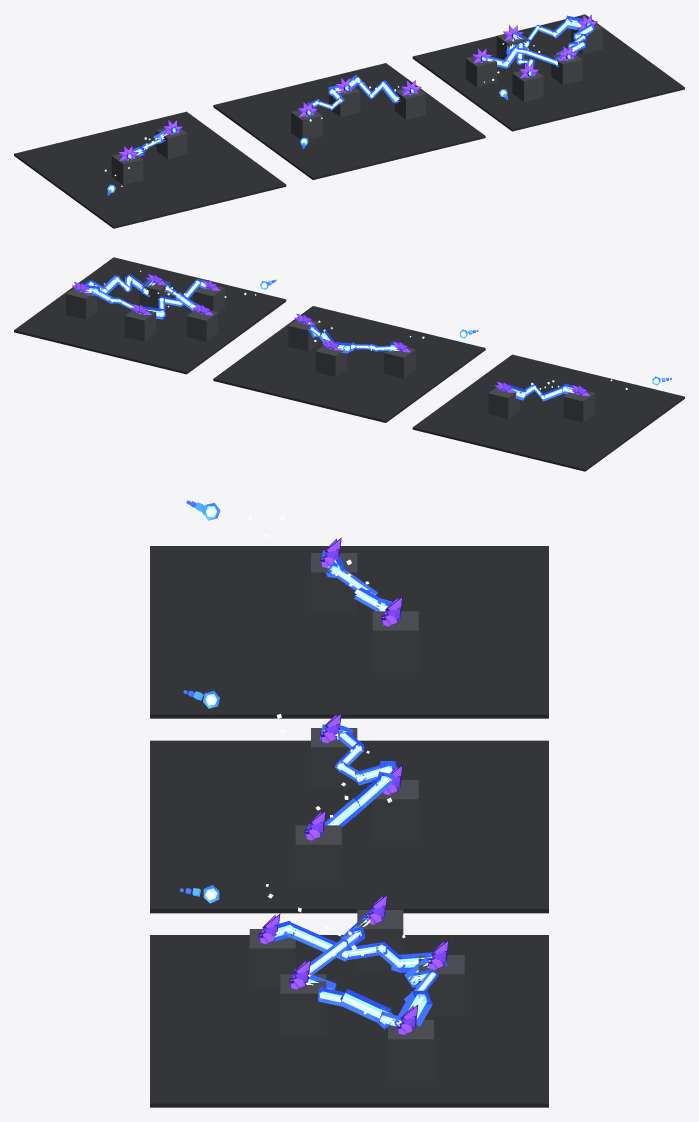
File: fx_chainlightning.glb
3 renders of one model, top to bottom at view 1: azimuth 30°, elevation 25°; view 2: azimuth 150°, elevation 25°; view 3: azimuth 270°, elevation 25°, orthographic. The views are drawn at different scales.
Visible parts, largest first — view 1: Ground_2T, Ground_3T, Ground_5T, Enemy_2T_01, Enemy_5T_05, Enemy_5T_01, Enemy_3T_01, Enemy_3T_03, Enemy_5T_02, Enemy_2T_02, Enemy_3T_02, Enemy_5T_03 (+1 smaller); view 2: Ground_2T, Ground_3T, Ground_5T, Enemy_5T_04, Enemy_5T_01, Enemy_2T_01, Enemy_3T_01, Enemy_3T_02, Enemy_5T_03, Enemy_2T_02, Enemy_3T_03, Enemy_5T_05 (+1 smaller); view 3: Ground_2T, Ground_3T, Ground_5T, Enemy_3T_03, Enemy_2T_02, Enemy_5T_03, Enemy_5T_02, Enemy_3T_02, Enemy_5T_05, Enemy_2T_01, Enemy_5T_04, Enemy_3T_01 (+1 smaller).
Boxes of the visible parts, x1,y1,x2,y2 form: Ground_2T: [14, 111, 286, 228]; Ground_3T: [213, 63, 485, 179]; Ground_5T: [412, 14, 684, 131]; Enemy_2T_01: [111, 154, 143, 184]; Enemy_5T_05: [512, 71, 543, 102]; Enemy_5T_01: [465, 56, 496, 87]; Enemy_3T_01: [291, 110, 322, 139]; Enemy_3T_03: [394, 88, 425, 119]; Enemy_5T_02: [551, 54, 582, 85]; Enemy_2T_02: [156, 128, 187, 158]; Enemy_3T_02: [329, 87, 360, 116]; Enemy_5T_03: [571, 24, 602, 54]; Ground_2T: [412, 354, 684, 471]; Ground_3T: [213, 306, 485, 422]; Ground_5T: [14, 257, 286, 374]; Enemy_5T_04: [124, 310, 156, 341]; Enemy_5T_01: [186, 310, 217, 341]; Enemy_2T_01: [563, 391, 594, 422]; Enemy_3T_01: [384, 347, 415, 378]; Enemy_3T_02: [315, 345, 346, 376]; Enemy_5T_03: [66, 288, 97, 319]; Enemy_2T_02: [488, 387, 519, 418]; Enemy_3T_03: [288, 320, 319, 351]; Enemy_5T_05: [193, 286, 224, 313]; Ground_2T: [150, 546, 548, 718]; Ground_3T: [150, 740, 548, 913]; Ground_5T: [150, 935, 548, 1107]; Enemy_3T_03: [295, 825, 341, 886]; Enemy_2T_02: [372, 611, 418, 672]; Enemy_5T_03: [388, 1019, 433, 1080]; Enemy_5T_02: [280, 974, 326, 1035]; Enemy_3T_02: [372, 780, 418, 840]; Enemy_5T_05: [249, 929, 295, 989]; Enemy_2T_01: [311, 553, 357, 613]; Enemy_5T_04: [418, 955, 464, 1015]; Enemy_3T_01: [311, 728, 357, 788].
Size of the model in its own units: 86 by 5.24 by 26.
